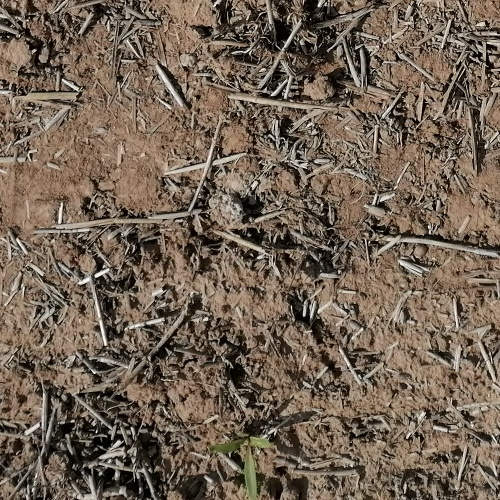beet: (207, 428, 275, 498)
